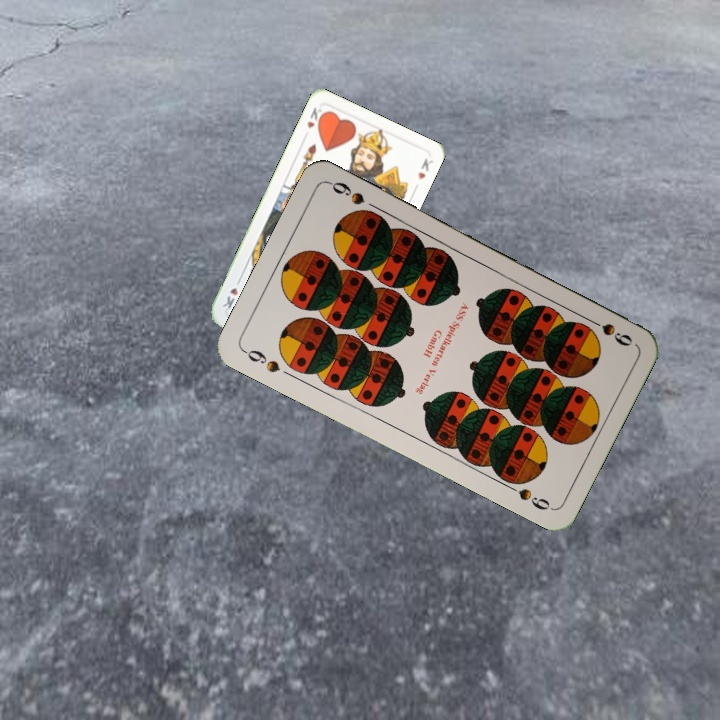HK: (303, 103, 327, 131)
S9: (581, 313, 635, 349), (239, 345, 283, 376)
